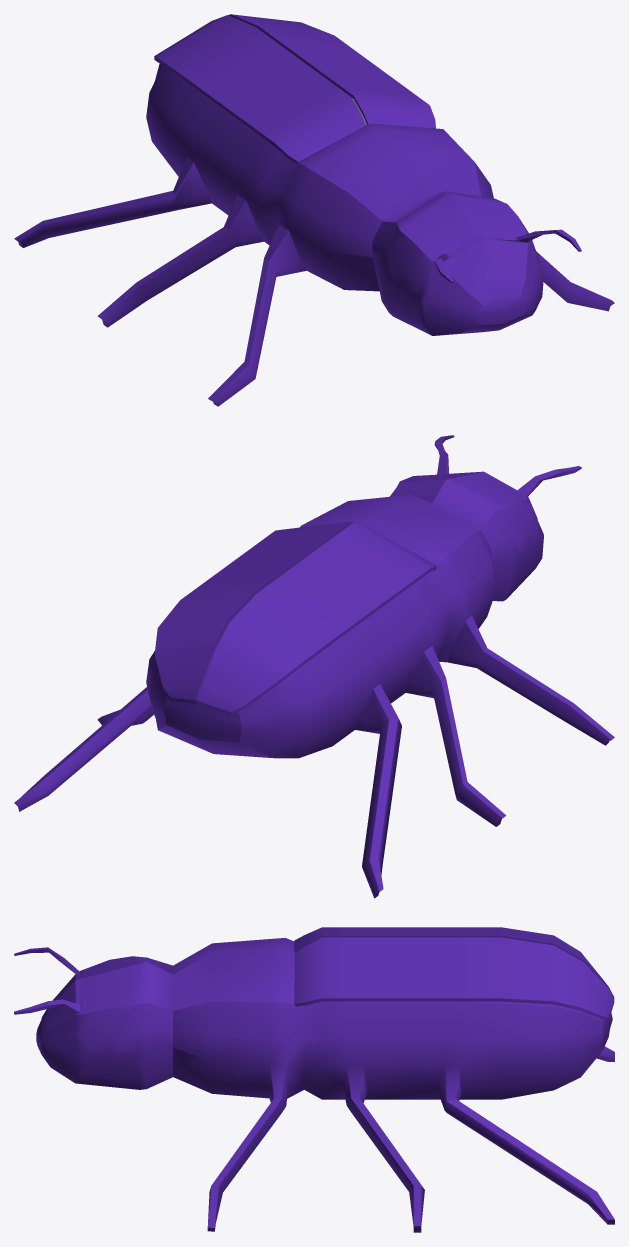
Rendered from beetle_alpha.fbx.
The picture shows the model from 3 angles, top to bottom: view 1: azimuth 30°, elevation 25°; view 2: azimuth 150°, elevation 25°; view 3: azimuth 270°, elevation 25°; orthographic projection. The views are drawn at different scales.
Visible parts, largest first — view 1: pCube1, shield_1, shield_2; view 2: pCube1, shield_1, shield_2; view 3: pCube1, shield_2, shield_1.
Part boxes in pixels (<box>): pCube1: <box>14,63,614,406</box>; shield_1: <box>154,15,365,163</box>; shield_2: <box>228,14,435,128</box>; pCube1: <box>14,435,614,898</box>; shield_1: <box>199,522,436,715</box>; shield_2: <box>154,521,353,703</box>; pCube1: <box>14,938,614,1232</box>; shield_2: <box>294,937,614,1020</box>; shield_1: <box>294,927,614,997</box>.
Size of the model in its own units: 2.7 by 1.4 by 3.69.
